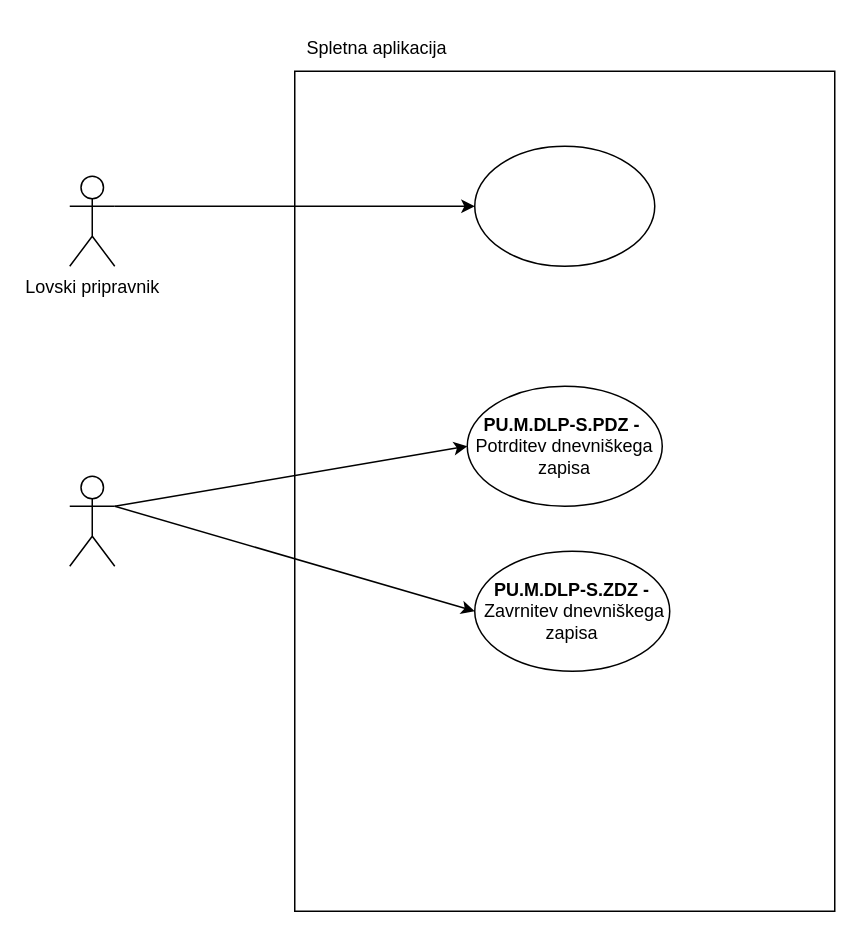
The diagram is 861 pixels wide and 938 high, and some of its shapes have lost their labels. Each missing label, with the centre of its shape:
Mentor: point 91,520
PU.M.DLP-S.VD - Vpis v dnevnik: point 564,205
